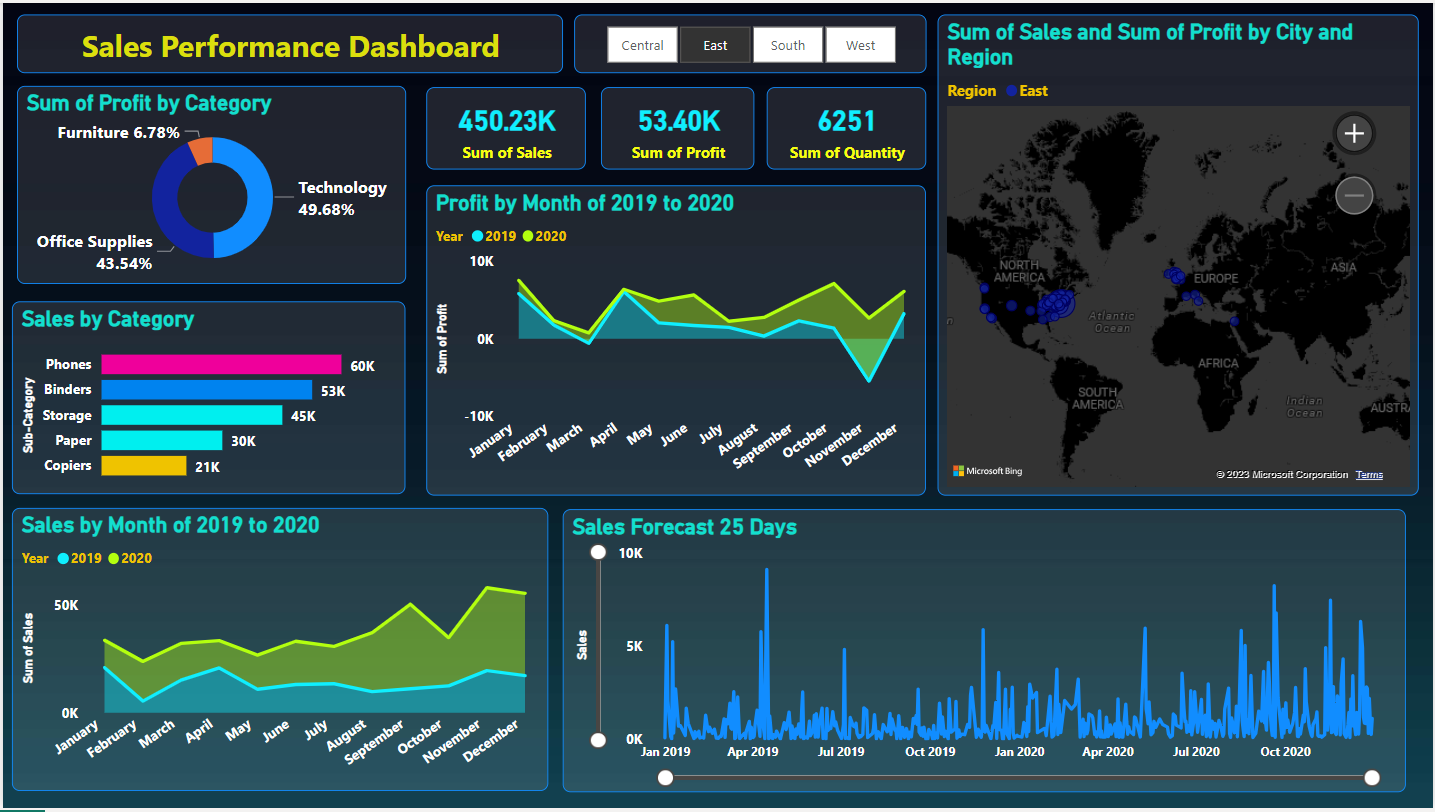

Layout of this report page (visuals, bound fields, positions):
{"tool":"powerbi","page":{"name":"Page 1","canvas":[1280,720],"ordinal":0},"visuals":[{"type":"clusteredBarChart","title":"Sales by Category","fields":{"Category":["SuperStore_Sales_Dataset.Sub-Category"],"Y":["Sum(SuperStore_Sales_Dataset.Sales)"]},"box":[8.5,267.5,352.4,172.7],"z":0},{"type":"stackedAreaChart","title":"Profit by Month of 2019 to 2020","fields":{"Category":["SuperStore_Sales_Dataset.Order Date.Variation.Date Hierarchy.Month","SuperStore_Sales_Dataset.Order Date.Variation.Date Hierarchy.Day"],"Series":["SuperStore_Sales_Dataset.Order Date.Variation.Date Hierarchy.Year"],"Y":["Sum(SuperStore_Sales_Dataset.Profit)"]},"box":[379.3,162.8,447.3,277.4],"z":1000},{"type":"stackedAreaChart","title":"Sales by Month of 2019 to 2020","fields":{"Category":["SuperStore_Sales_Dataset.Order Date.Variation.Date Hierarchy.Month","SuperStore_Sales_Dataset.Order Date.Variation.Date Hierarchy.Day"],"Series":["SuperStore_Sales_Dataset.Order Date.Variation.Date Hierarchy.Year"],"Y":["Sum(SuperStore_Sales_Dataset.Sales)"]},"box":[8.5,451.5,479.8,253.4],"z":2000},{"type":"map","fields":{"Category":["SuperStore_Sales_Dataset.City"],"Size":["Sum(SuperStore_Sales_Dataset.Sales)"],"Series":["SuperStore_Sales_Dataset.Region"]},"box":[836.5,9.9,430.3,430.3],"z":3000},{"type":"donutChart","fields":{"Y":["Sum(SuperStore_Sales_Dataset.Profit)"],"Category":["SuperStore_Sales_Dataset.Category"]},"box":[12.7,73.6,348.2,176.9],"z":4000},{"type":"textbox","box":[12.7,9.9,488.3,52.4],"z":5000},{"type":"slicer","fields":{"Values":["SuperStore_Sales_Dataset.Region"]},"box":[511,9.9,315.6,52.4],"z":6000},{"type":"card","fields":{"Values":["Sum(SuperStore_Sales_Dataset.Sales)"]},"box":[379.3,75,143,73.6],"z":7000},{"type":"card","fields":{"Values":["Sum(SuperStore_Sales_Dataset.Profit)"]},"box":[535,75,137.3,73.6],"z":8000},{"type":"card","fields":{"Values":["Sum(SuperStore_Sales_Dataset.Quantity)"]},"box":[683.7,75,143,73.6],"z":9000},{"type":"lineChart","title":"Sales Forecast 25 Days","fields":{"Category":["SuperStore_Sales_Dataset.Order Date"],"Y":["Sum(SuperStore_Sales_Dataset.Sales)"]},"box":[500.9,451.8,765.6,253.3],"z":10000}]}

Visuals, with their boxes in screenshot pixels (x1, y1, x2, y2), scaled from the page's 1280x720 canvas onto the 1435x812 screenshot:
"Sales by Category" clusteredBarChart: [10,302,405,496]
"Profit by Month of 2019 to 2020" stackedAreaChart: [425,184,927,496]
"Sales by Month of 2019 to 2020" stackedAreaChart: [10,509,547,795]
map - SuperStore_Sales_Dataset.City x Sum(SuperStore_Sales_Dataset.Sales): [938,11,1420,496]
donutChart - Sum(SuperStore_Sales_Dataset.Profit) x SuperStore_Sales_Dataset.Category: [14,83,405,283]
textbox: [14,11,562,70]
slicer - SuperStore_Sales_Dataset.Region: [573,11,927,70]
card - Sum(SuperStore_Sales_Dataset.Sales): [425,85,586,168]
card - Sum(SuperStore_Sales_Dataset.Profit): [600,85,754,168]
card - Sum(SuperStore_Sales_Dataset.Quantity): [766,85,927,168]
"Sales Forecast 25 Days" lineChart: [562,510,1420,795]
